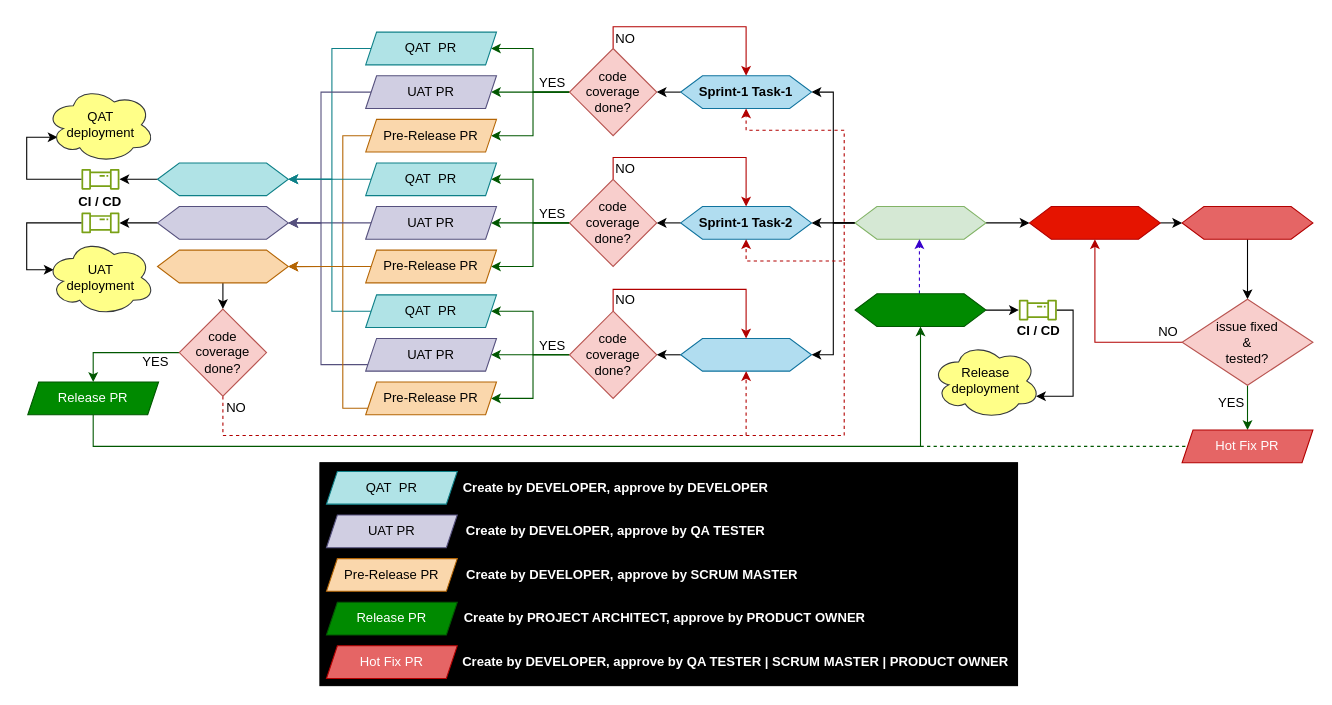
Image size: 1332x705. Some labels were removed from this diagram. Each missing label, with the centre of its shape:
Hot Fix: the point at 1094,222
Main: the point at 920,222
Pre-Release: the point at 222,266
QAT: the point at 222,179
Release: the point at 920,309
Sprint-1 Fix-1: the point at 1247,222
Sprint-1 Task-3: the point at 746,354
UAT: the point at 222,222
